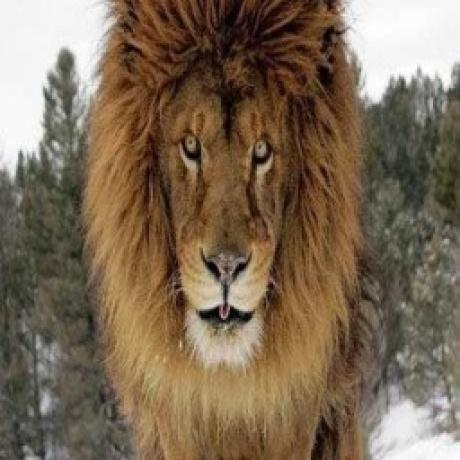Lion: (80, 0, 369, 460)
